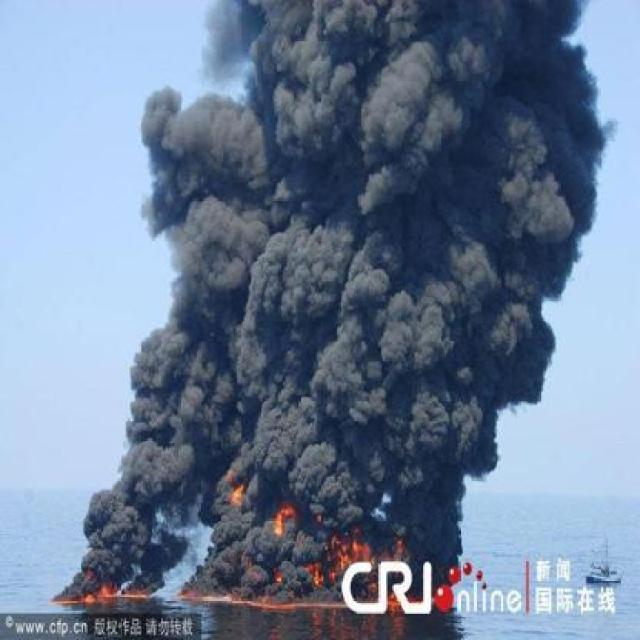Fire: (57, 456, 420, 640)
Smoke: (134, 2, 608, 448)
